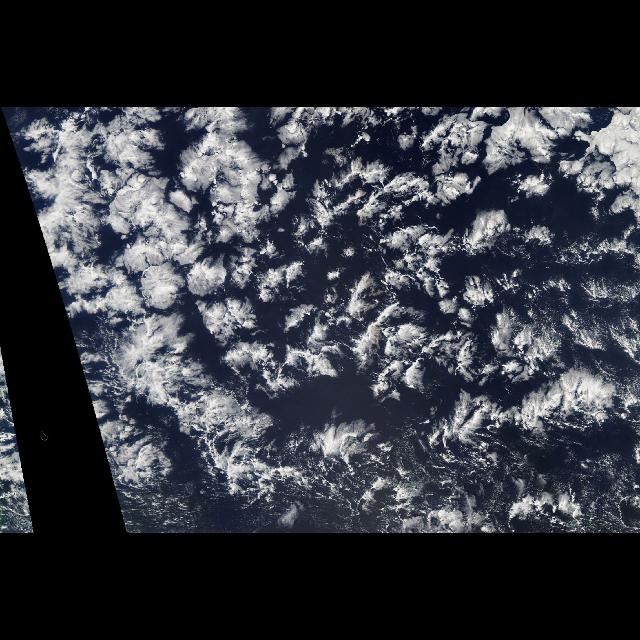Fish: (70, 245, 640, 518)
Flower: (11, 110, 640, 396)
Sugar: (3, 111, 321, 422), (4, 352, 15, 423)
